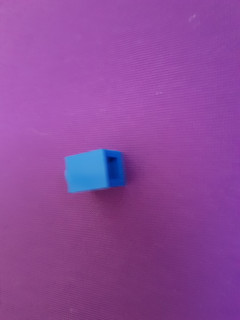1x1 blue: (60, 146, 129, 194)
